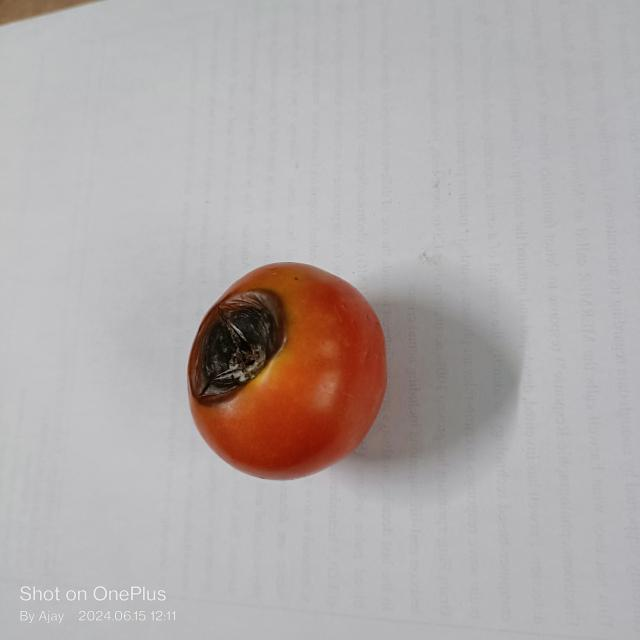Anthrocnose: (183, 286, 289, 406)
